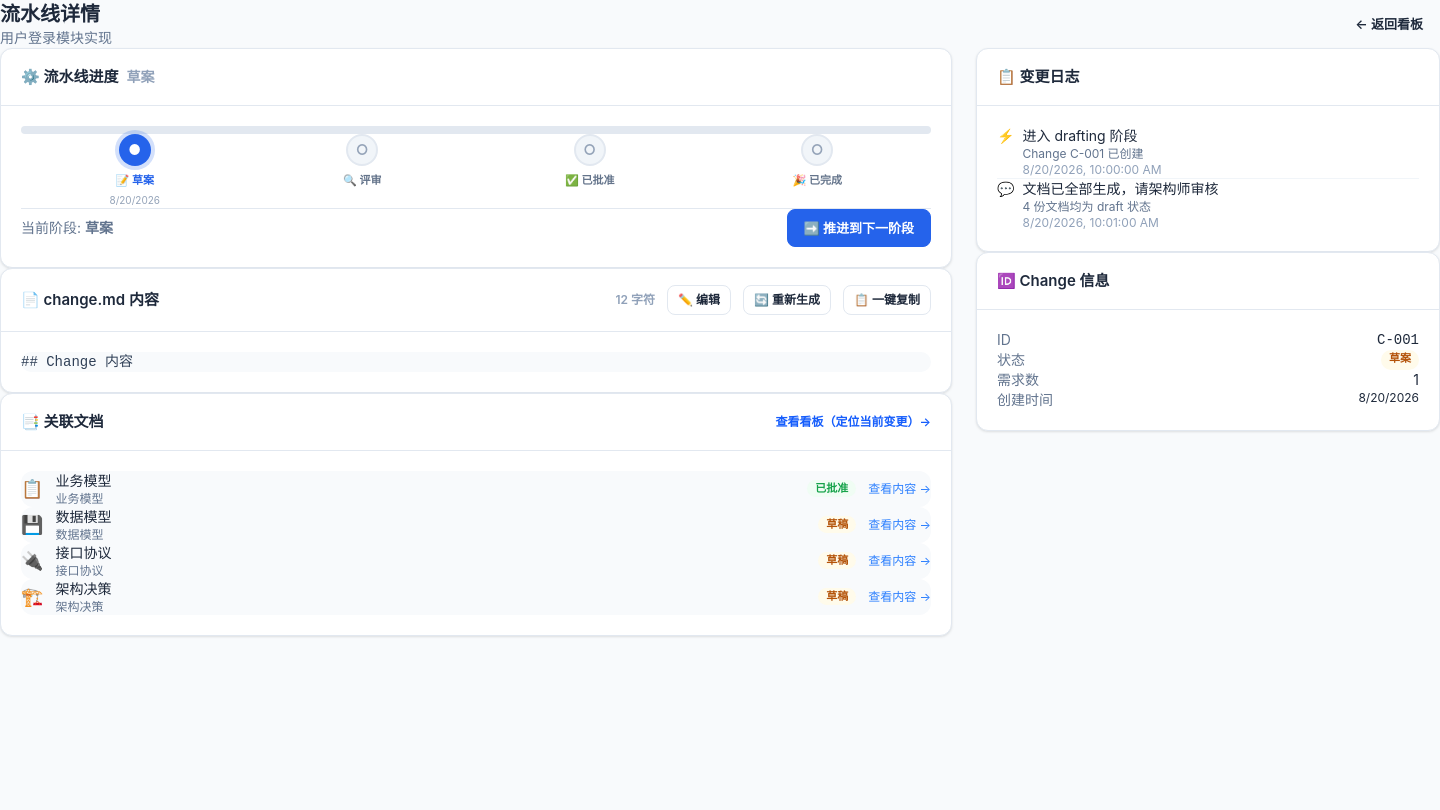
Test case: PipelineView — 📑 关联文档 › 点击弹窗遮罩可关闭弹窗
The image size is (1440, 810).
Click the element showing "📋 业务模型 业务模型 已批准 查看内容 →". click: (476, 489)
box: [21,471,931,507]
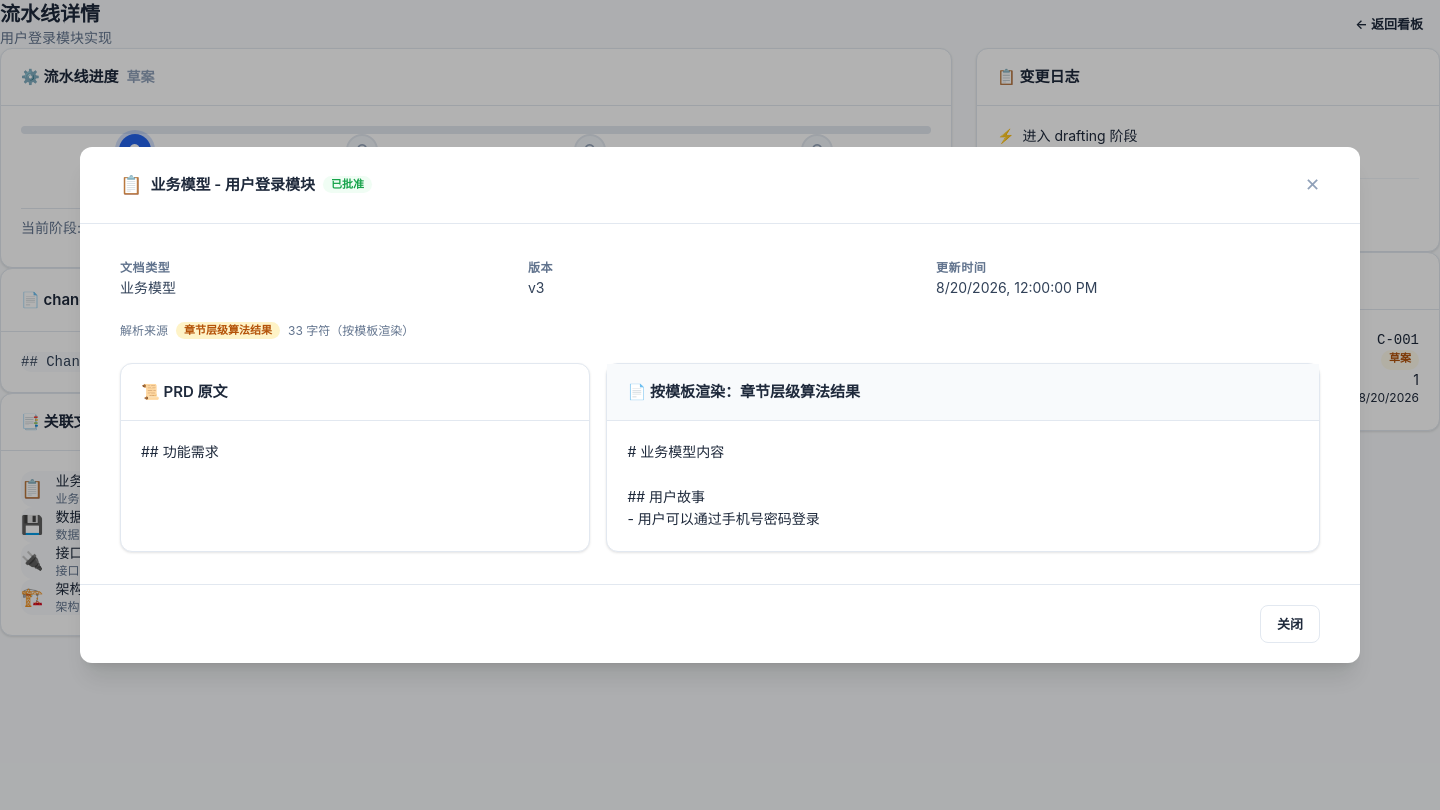
Expected: the text "# 业务模型内容" is shown, [627,443,820,527]
Expected: the element with class "inset-0" is shown
Click the element with class "inset-0". click: (720, 761)
box: [0,0,1439,809]
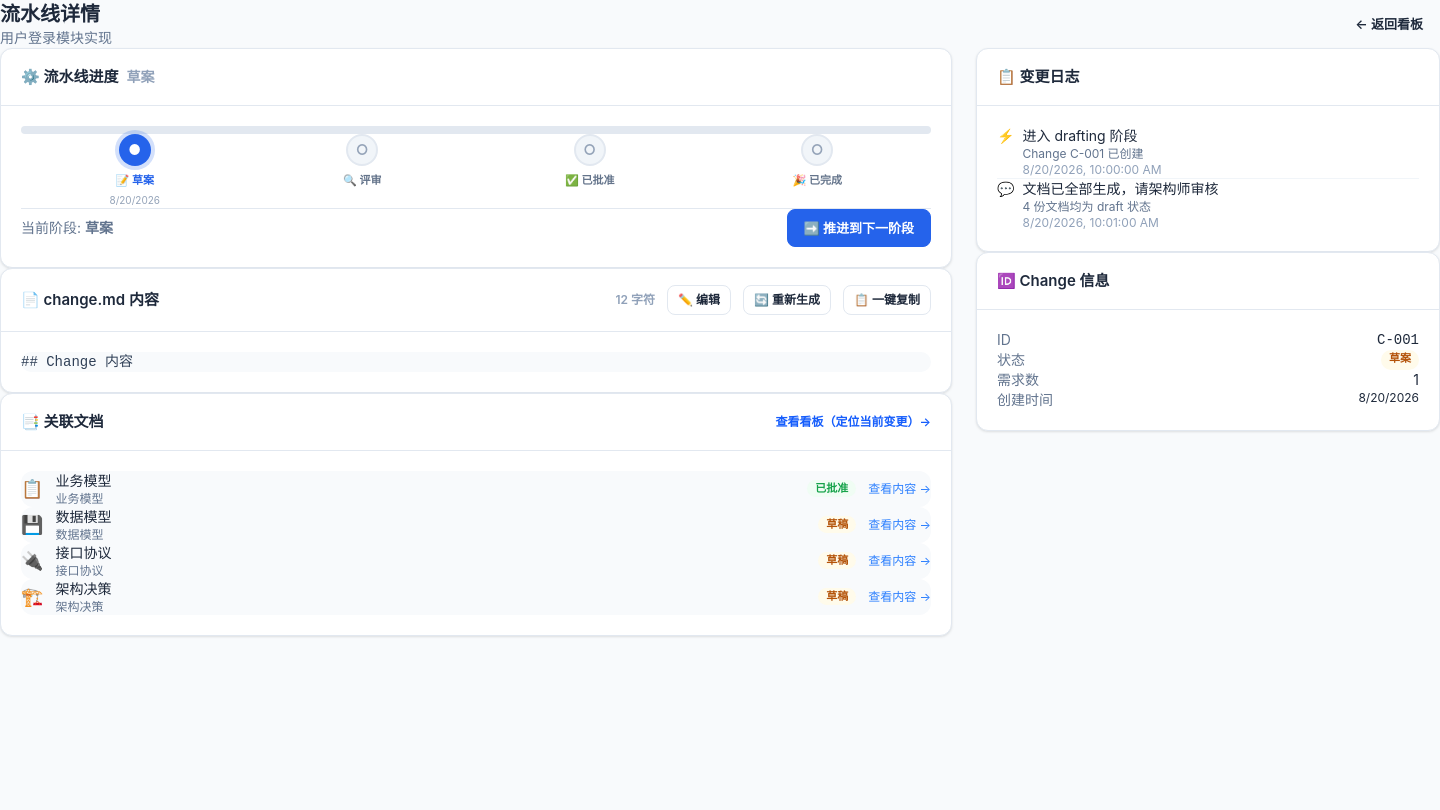
Expected: the text "# 业务模型内容" is gone
